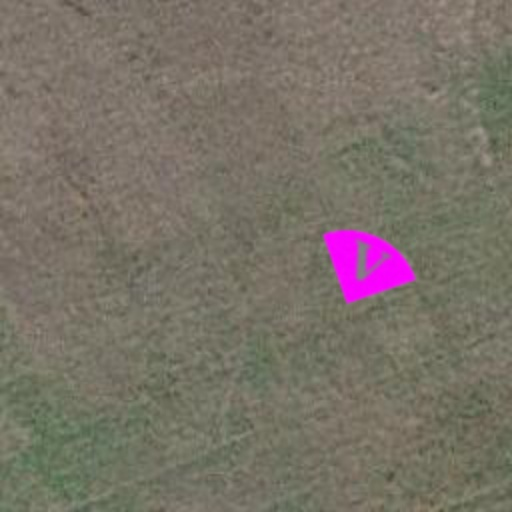quarter_circle: (300, 198, 432, 330)
